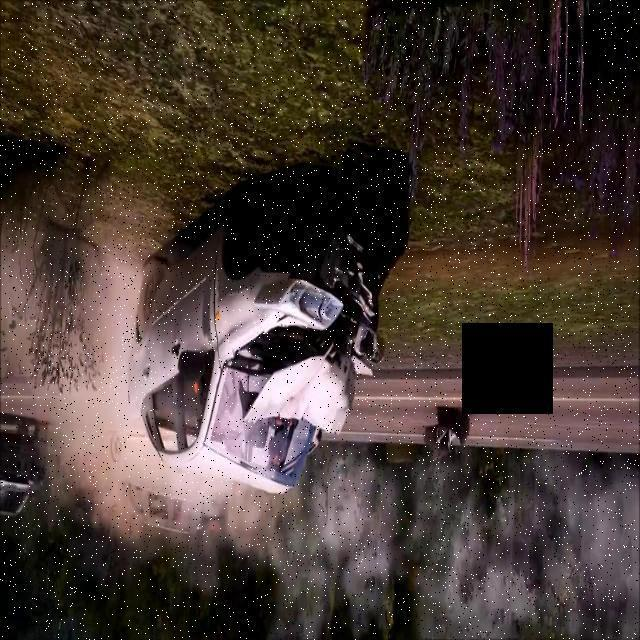vehicle: (108, 216, 418, 524), (4, 398, 64, 530)
